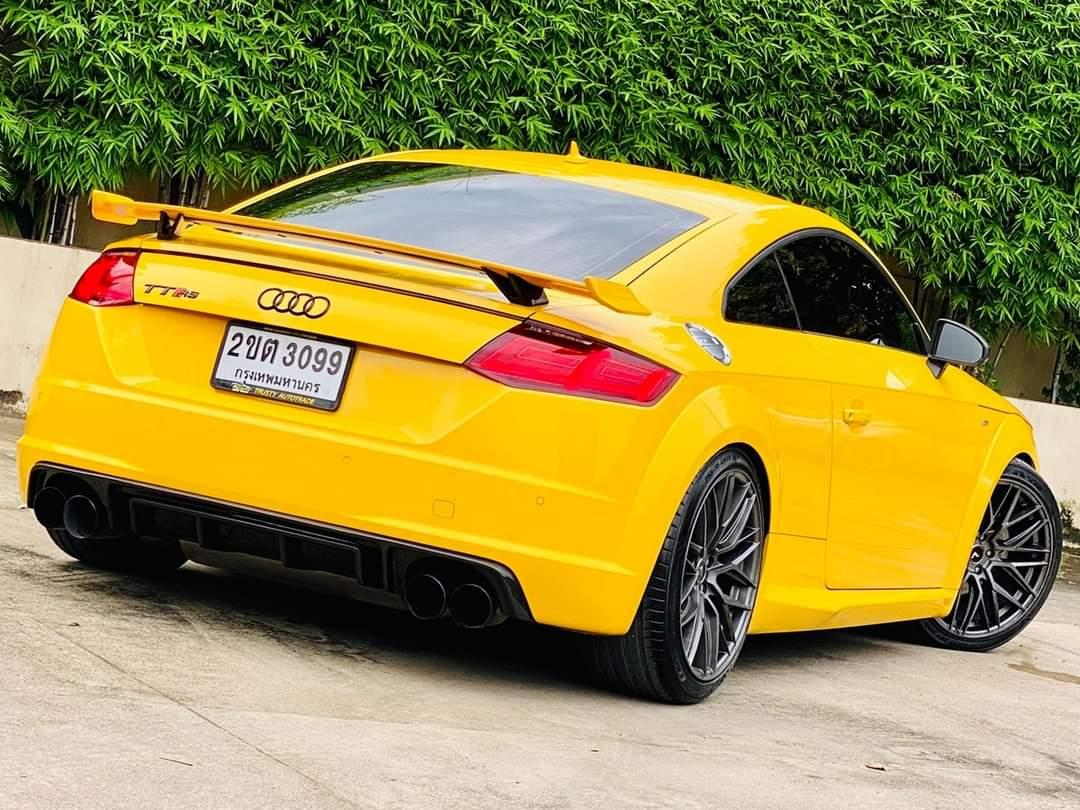license-plate: (208, 314, 358, 418)
